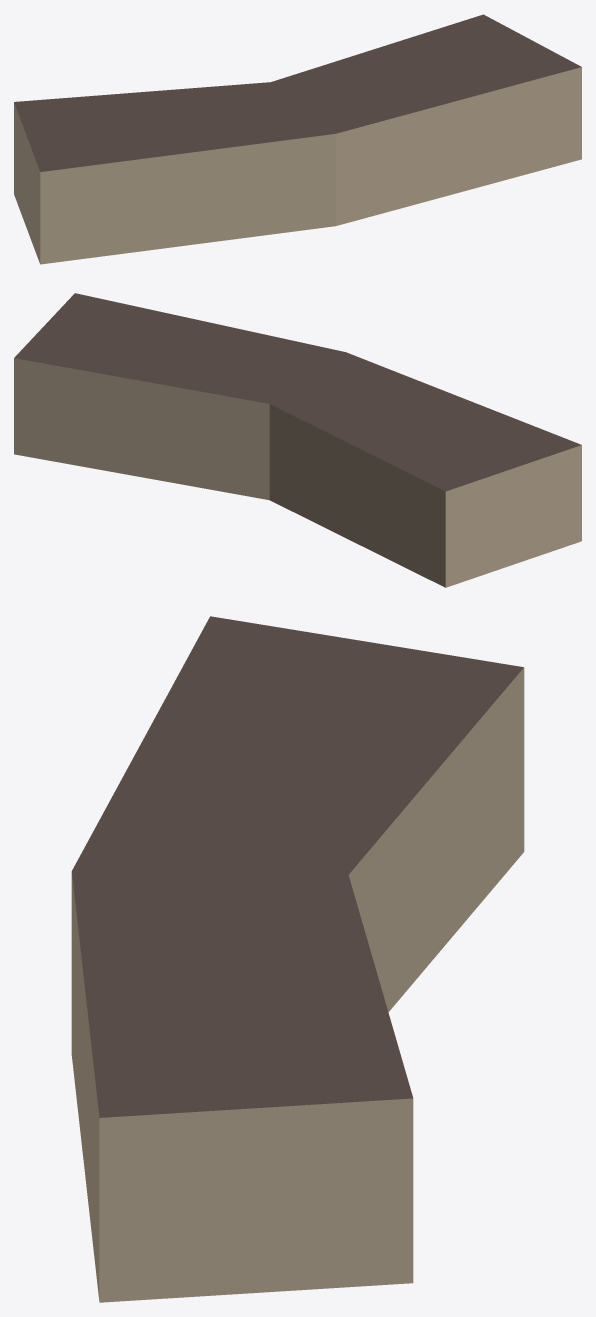
3 views of the same model, one above another, from view 1: azimuth 30°, elevation 25°; view 2: azimuth 150°, elevation 25°; view 3: azimuth 270°, elevation 25° (orthographic). The views are drawn at different scales.
Parts seen in each view (by area): view 1: HP-w1287261385; view 2: HP-w1287261385; view 3: HP-w1287261385.
Part boxes in pixels (x1,y1,x2,y2): HP-w1287261385: [14, 14, 581, 264]; HP-w1287261385: [14, 293, 581, 587]; HP-w1287261385: [71, 616, 524, 1302].
Bounding box in the file's own units: 52.41 × 9 × 19.97.
